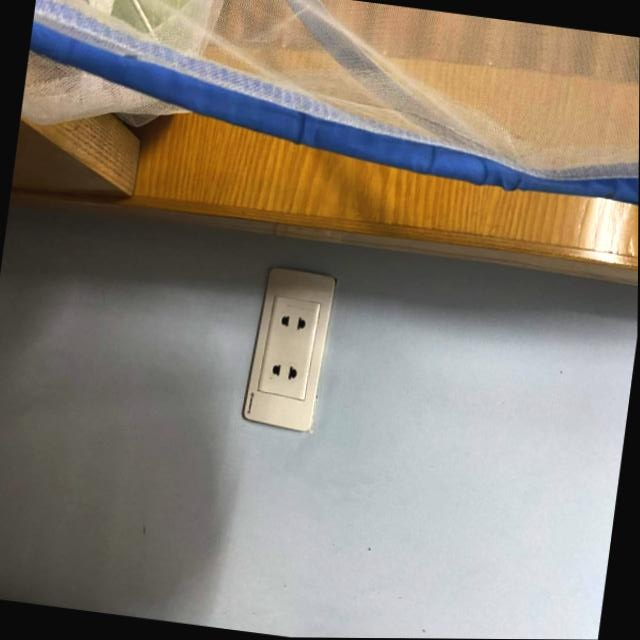outlet: (241, 264, 339, 433)
